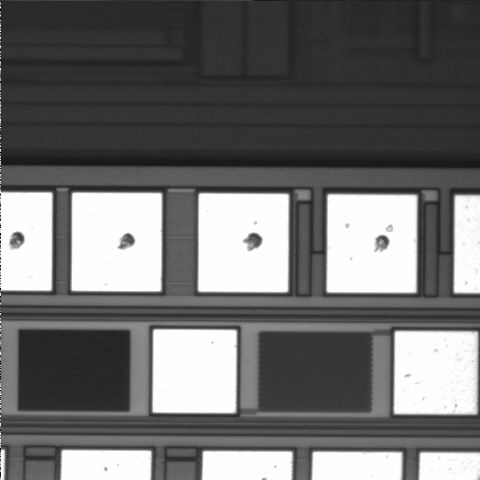pad: (198, 193, 289, 292), (72, 193, 162, 291), (327, 195, 417, 293), (153, 330, 237, 413), (394, 331, 477, 414)
